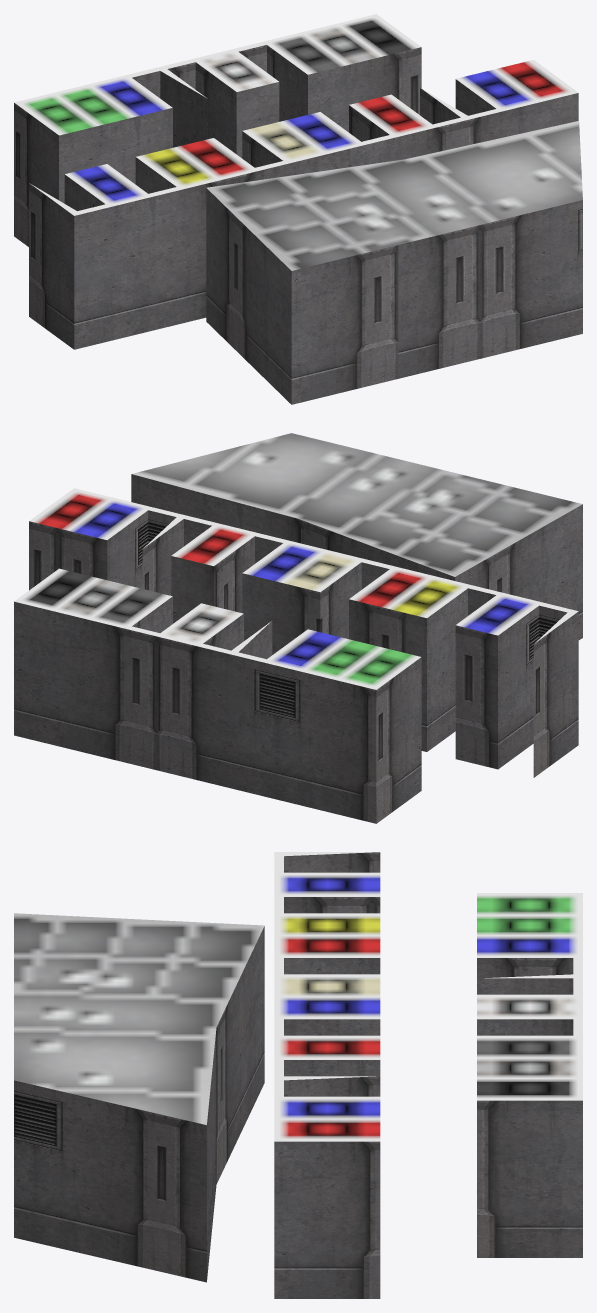
Rendered from BuildingSystem-03-Advance-04-ReinforcedLow-Z-108-01.glb.
3 renders of one model, top to bottom at view 1: azimuth 30°, elevation 25°; view 2: azimuth 150°, elevation 25°; view 3: azimuth 270°, elevation 25°, orthographic. The views are drawn at different scales.
Parts seen in each view (by area): view 1: buildings/saxarba/SMV_Buildings/BuildingSystem-03-Advance-04; view 2: buildings/saxarba/SMV_Buildings/BuildingSystem-03-Advance-04; view 3: buildings/saxarba/SMV_Buildings/BuildingSystem-03-Advance-04.
Boxes of the visible parts, left/top/right/bottom form: buildings/saxarba/SMV_Buildings/BuildingSystem-03-Advance-04: left=14, top=14, right=582, bottom=404; buildings/saxarba/SMV_Buildings/BuildingSystem-03-Advance-04: left=14, top=433, right=582, bottom=823; buildings/saxarba/SMV_Buildings/BuildingSystem-03-Advance-04: left=14, top=852, right=582, bottom=1298.
Size of the model in its own units: 71 by 18 by 59.
